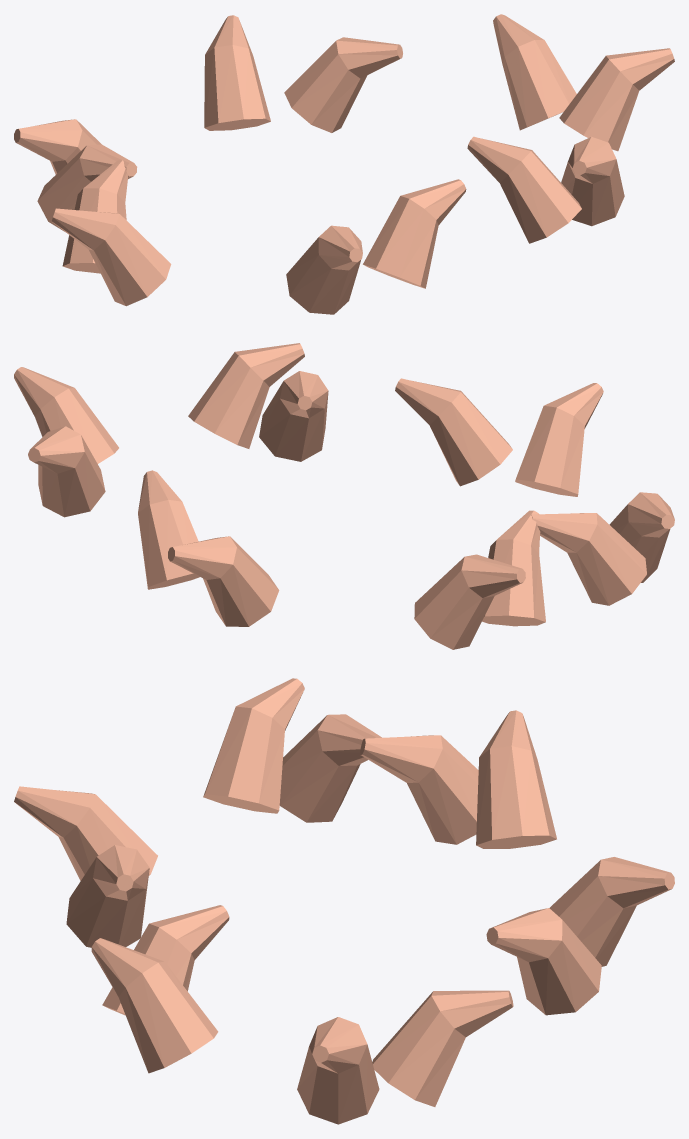
File: intertidal_coral_rubble_patch_tropical_island_and_palm_trees_6850.glb
The picture shows the model from 3 angles, top to bottom: view 1: azimuth 30°, elevation 25°; view 2: azimuth 150°, elevation 25°; view 3: azimuth 270°, elevation 25°; orthographic projection. The views are drawn at different scales.
Visible parts, largest first — view 1: coral-rubble-patch; view 2: coral-rubble-patch; view 3: coral-rubble-patch.
Boxes of the visible parts, <box> form: coral-rubble-patch: <box>14,14,674,314</box>; coral-rubble-patch: <box>14,343,674,649</box>; coral-rubble-patch: <box>14,678,674,1124</box>.
Bounding box in the file's own units: 1.5 × 0.2031 × 1.12.
